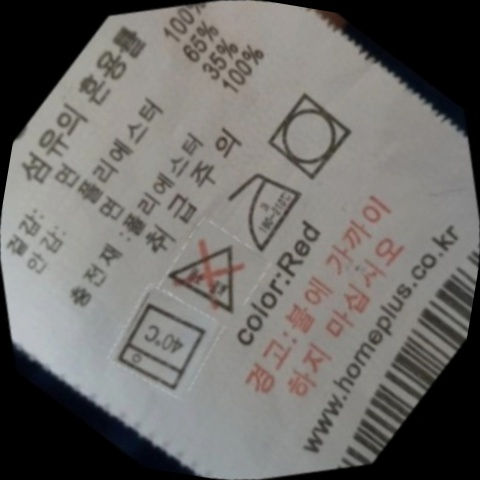40C: (91, 271, 242, 420)
iron_high: (206, 139, 333, 272)
non_chlorine_bleach: (146, 207, 279, 341)
tumble_dry_normal: (233, 54, 392, 217)
